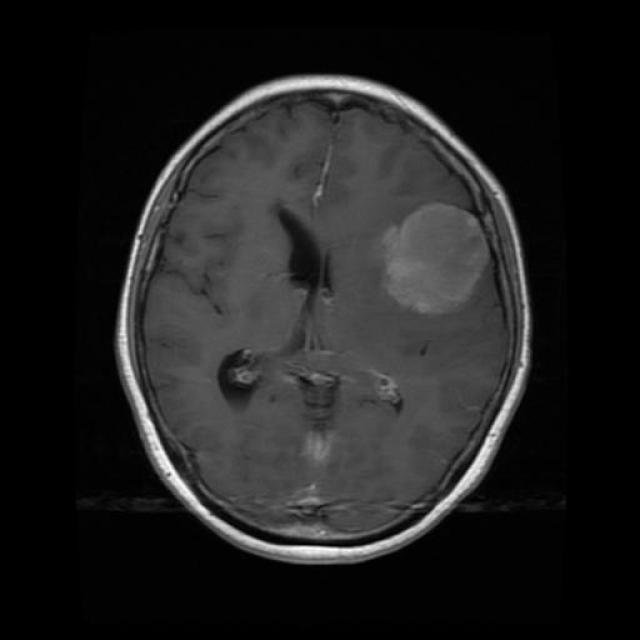Brain-Tumor: (370, 185, 500, 333)
